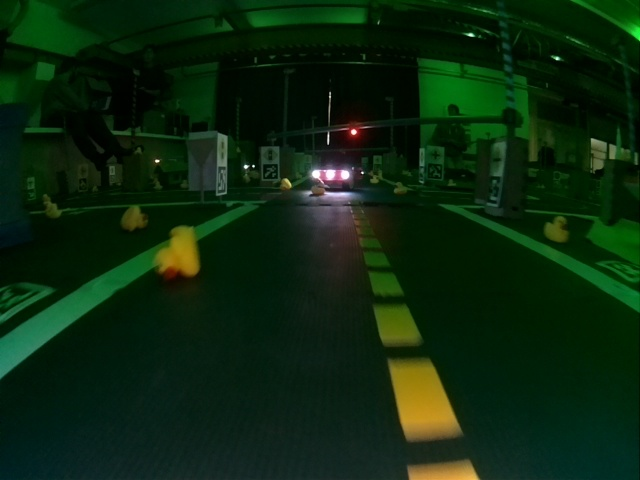Duckie: (157, 225, 193, 280), (121, 206, 147, 229), (543, 216, 565, 242), (48, 204, 61, 217), (394, 182, 404, 193), (311, 184, 323, 193), (281, 180, 289, 189)
Duckiebot: (313, 162, 360, 191)
Intersection sign: (490, 146, 503, 172), (428, 148, 445, 164)
QR code: (598, 258, 638, 282), (487, 175, 500, 206), (217, 168, 227, 193), (263, 164, 278, 179), (427, 164, 441, 179)
Signal sign: (218, 139, 227, 164), (262, 148, 277, 162)
Traffic light: (350, 126, 358, 137)
